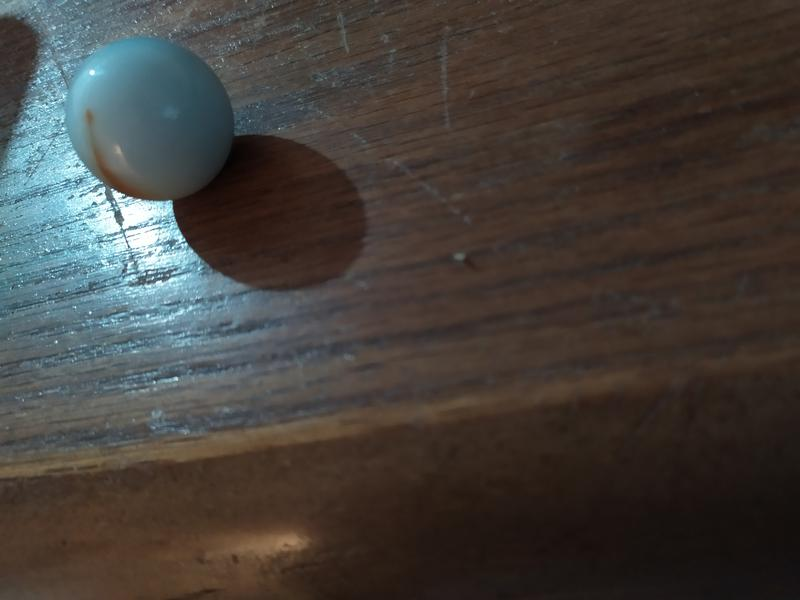Warning: (61, 33, 236, 205)
